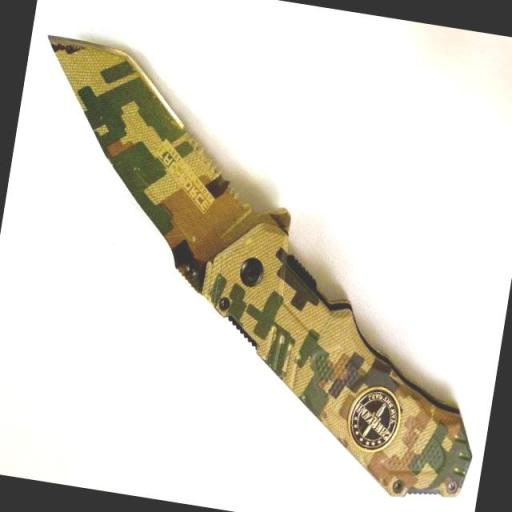knife: (0, 23, 310, 334)
